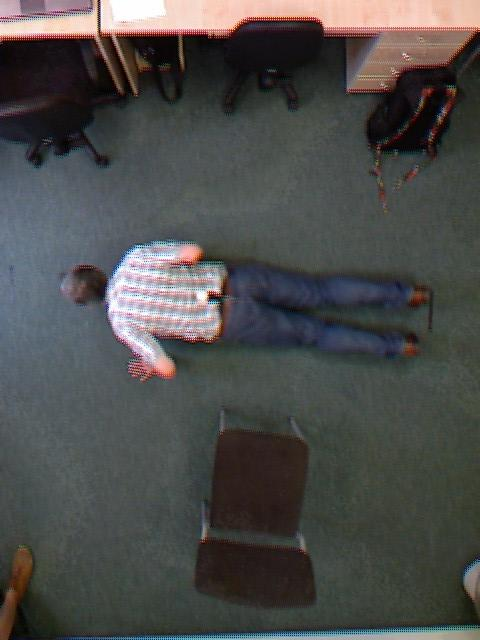fall: (190, 57, 304, 572)
